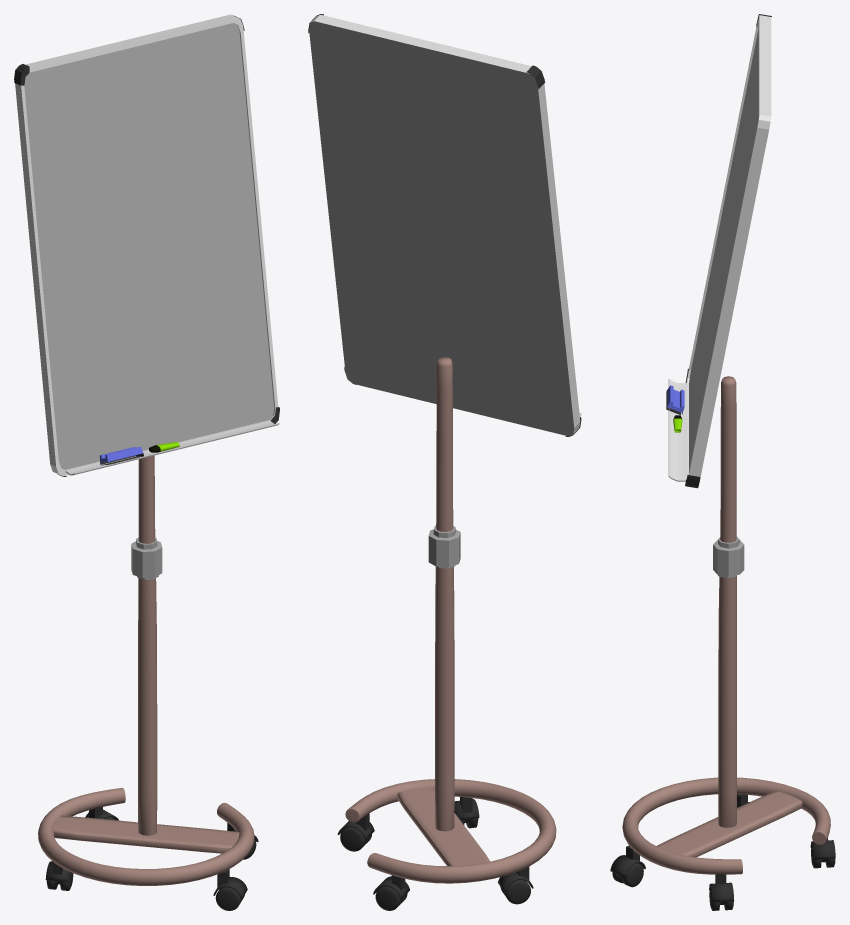
The model's file is Board type  1.fbx.
3 renders of one model, left to right at view 1: azimuth 30°, elevation 25°; view 2: azimuth 150°, elevation 25°; view 3: azimuth 270°, elevation 25°, orthographic. The views are drawn at different scales.
Visible parts, largest first — view 1: Board type 1; view 2: Board type 1; view 3: Board type 1.
Boxes of the visible parts, x1,y1,x2,y2 form: Board type 1: (14, 14, 279, 910); Board type 1: (308, 14, 581, 910); Board type 1: (610, 14, 835, 910).
Bounding box in the file's own units: 145 × 508 × 129.
